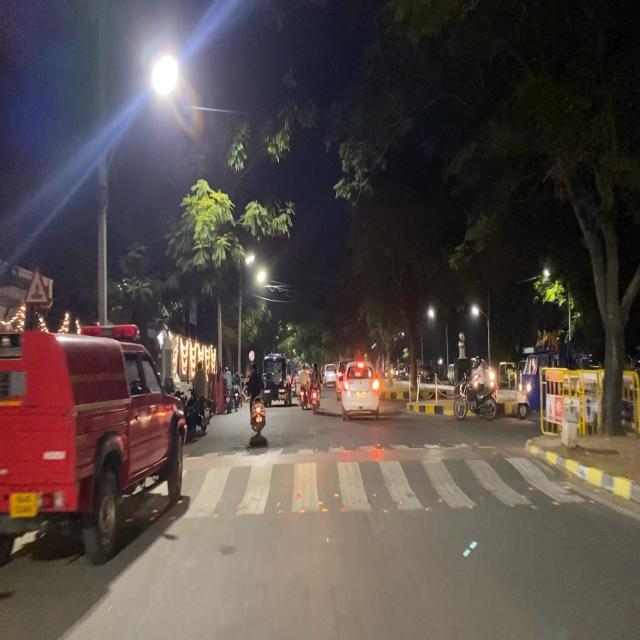bien_cam: (24, 261, 48, 309)
